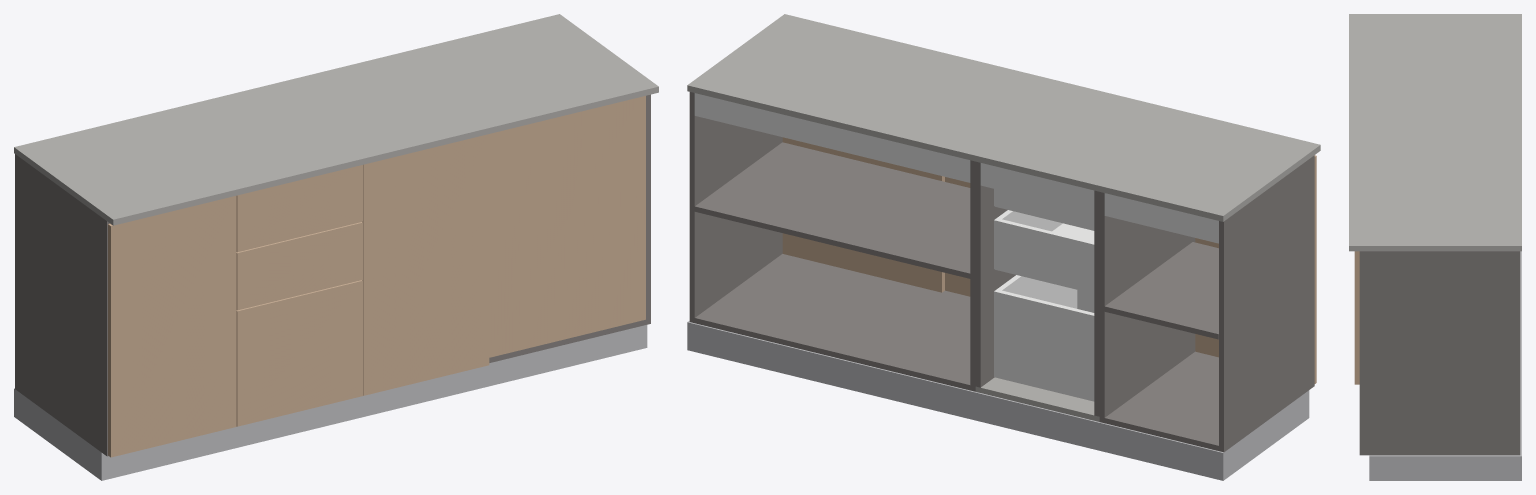
The model's file is sebasCocina.glb.
3 renders of one model, left to right at view 1: azimuth 30°, elevation 25°; view 2: azimuth 150°, elevation 25°; view 3: azimuth 270°, elevation 25°, orthographic. The views are drawn at different scales.
Visible parts, largest first — view 1: mesada, puerta_ciega, puerta_izq, puerta_der, lat_1, caj1_frente, zocalo, caj2_frente, caj3_frente, lat_6, base_der; view 2: mesada, lat_1, base_der, est_der, zocalo, lat_2, lat_6, caj1_cf_tras, base_izq, est_izq, faja_tras_der, caj2_cf_tras (+11 smaller); view 3: mesada, lat_6, zocalo, base_der, puerta_der.
Boxes of the visible parts, left/top/right/bottom form: mesada: left=14, top=14, right=658, bottom=225; puerta_ciega: left=489, top=96, right=645, bottom=357; puerta_izq: left=108, top=195, right=236, bottom=457; puerta_der: left=362, top=134, right=489, bottom=395; lat_1: left=15, top=154, right=109, bottom=450; caj1_frente: left=236, top=280, right=362, bottom=426; zocalo: left=14, top=325, right=647, bottom=480; caj2_frente: left=236, top=222, right=362, bottom=310; caj3_frente: left=236, top=165, right=362, bottom=252; lat_6: left=646, top=94, right=650, bottom=319; base_der: left=489, top=318, right=650, bottom=362; mesada: left=687, top=14, right=1320, bottom=221; lat_1: left=1219, top=155, right=1314, bottom=446; base_der: left=689, top=254, right=975, bottom=391; est_der: left=694, top=142, right=970, bottom=278; zocalo: left=687, top=321, right=1309, bottom=480; lat_2: left=1099, top=192, right=1195, bottom=417; lat_6: left=689, top=92, right=782, bottom=317; caj1_cf_tras: left=999, top=290, right=1094, bottom=400; base_izq: left=1099, top=351, right=1314, bottom=452; est_izq: left=1104, top=242, right=1218, bottom=339; faja_tras_der: left=694, top=93, right=970, bottom=182; caj2_cf_tras: left=999, top=219, right=1094, bottom=293; mesada: left=1349, top=14, right=1521, bottom=251; lat_6: left=1359, top=251, right=1520, bottom=450; zocalo: left=1369, top=251, right=1521, bottom=480; base_der: left=1359, top=450, right=1520, bottom=455; puerta_der: left=1354, top=251, right=1359, bottom=384.
Size of the model in its own units: 1.91 by 0.9 by 0.6.
